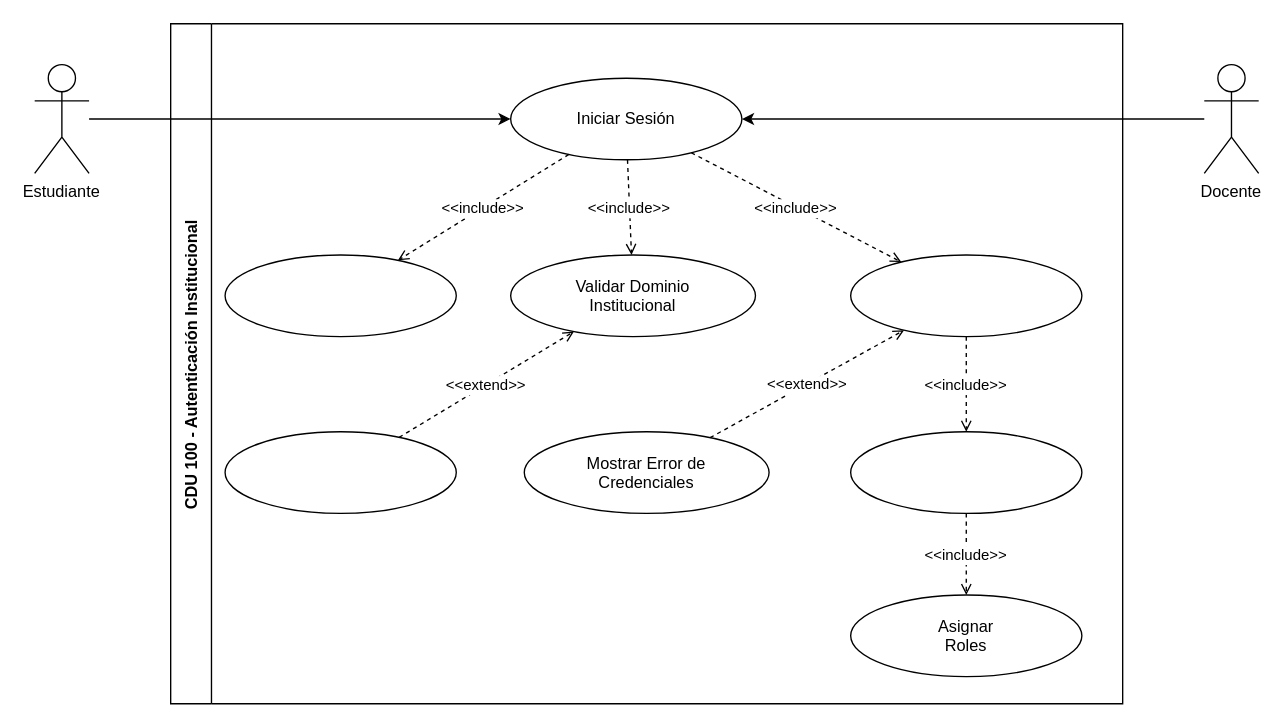
Image size: 1287x728. Some labels were removed from this diagram. The shapes that lost their labels are listed below. From the top down, each one's centre as x and y in pixels, then its label:
the point at 340,295: Ingresar Credenciales
the point at 965,295: Autenticar Usuario
the point at 340,471: Mostrar Error de Dominio
the point at 965,471: Generar Sesión
